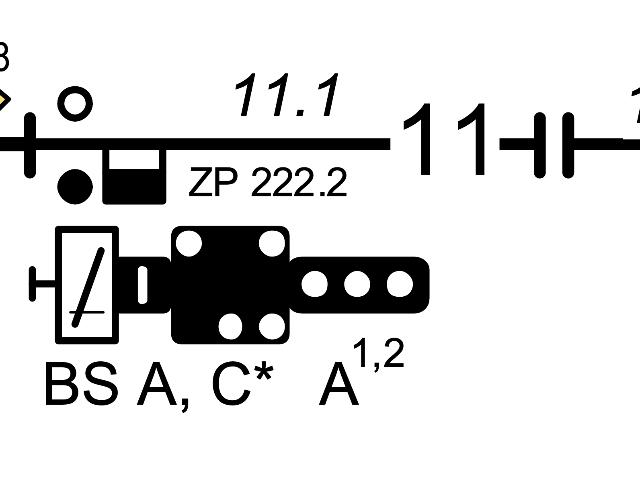radzaehler: (92, 127, 182, 219)
trackjoint: (508, 95, 600, 191)
tracknumber: (362, 73, 514, 193)
